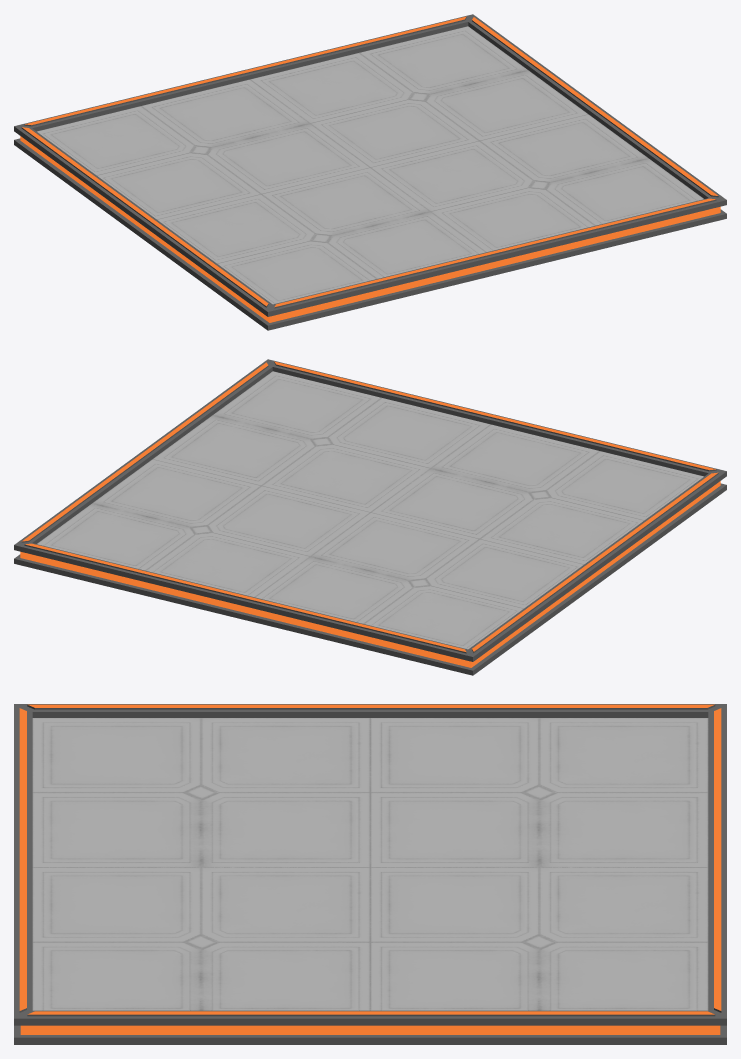
File: Bodenplatte_06.glb
3 views of the same model, one above another, from view 1: azimuth 30°, elevation 25°; view 2: azimuth 150°, elevation 25°; view 3: azimuth 270°, elevation 25° (orthographic). The views are drawn at different scales.
Parts seen in each view (by area): view 1: Bodenplatte_06; view 2: Bodenplatte_06; view 3: Bodenplatte_06.
Boxes of the visible parts, <box> form: Bodenplatte_06: <box>14,14,726,330</box>; Bodenplatte_06: <box>14,359,726,675</box>; Bodenplatte_06: <box>14,704,726,1044</box>.
Bounding box in the file's own units: 5.05 × 0.2097 × 4.84.
3 materials, 1 textured.
